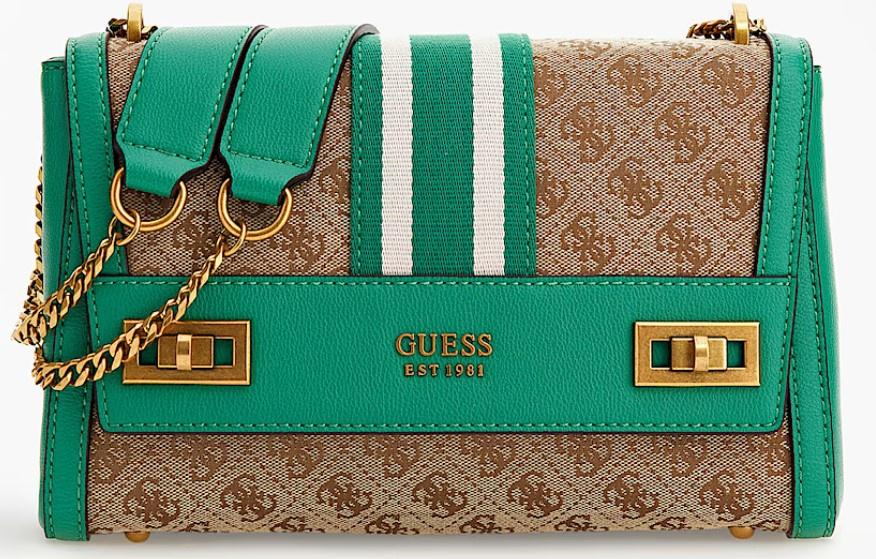GUESS: (395, 332, 493, 357)
